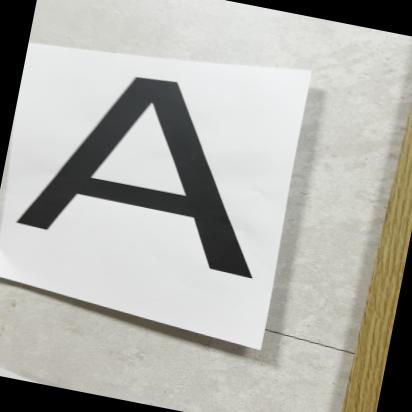seat: (6, 55, 310, 320)
